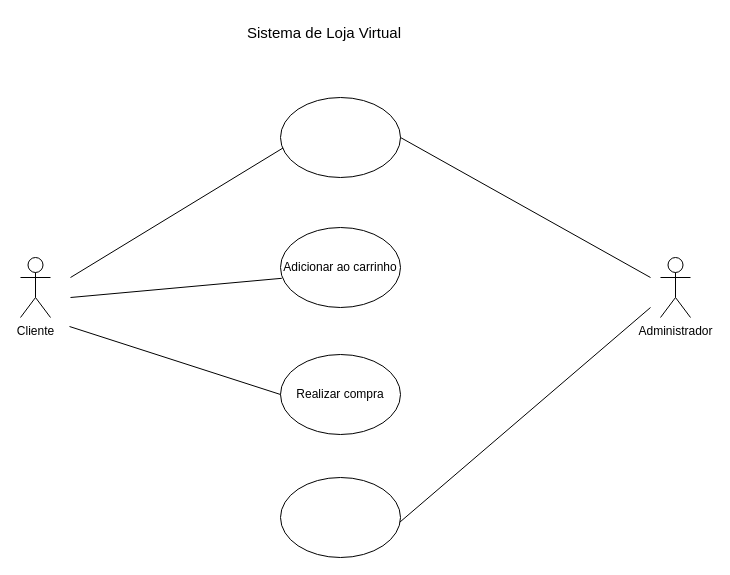
Some shapes in this 730 by 575 pixel diagram are drawn without their labels. Each missing label, with the centre of its shape:
Gerenciar pedidos: point (340, 517)
Navegar produtos: point (340, 137)
